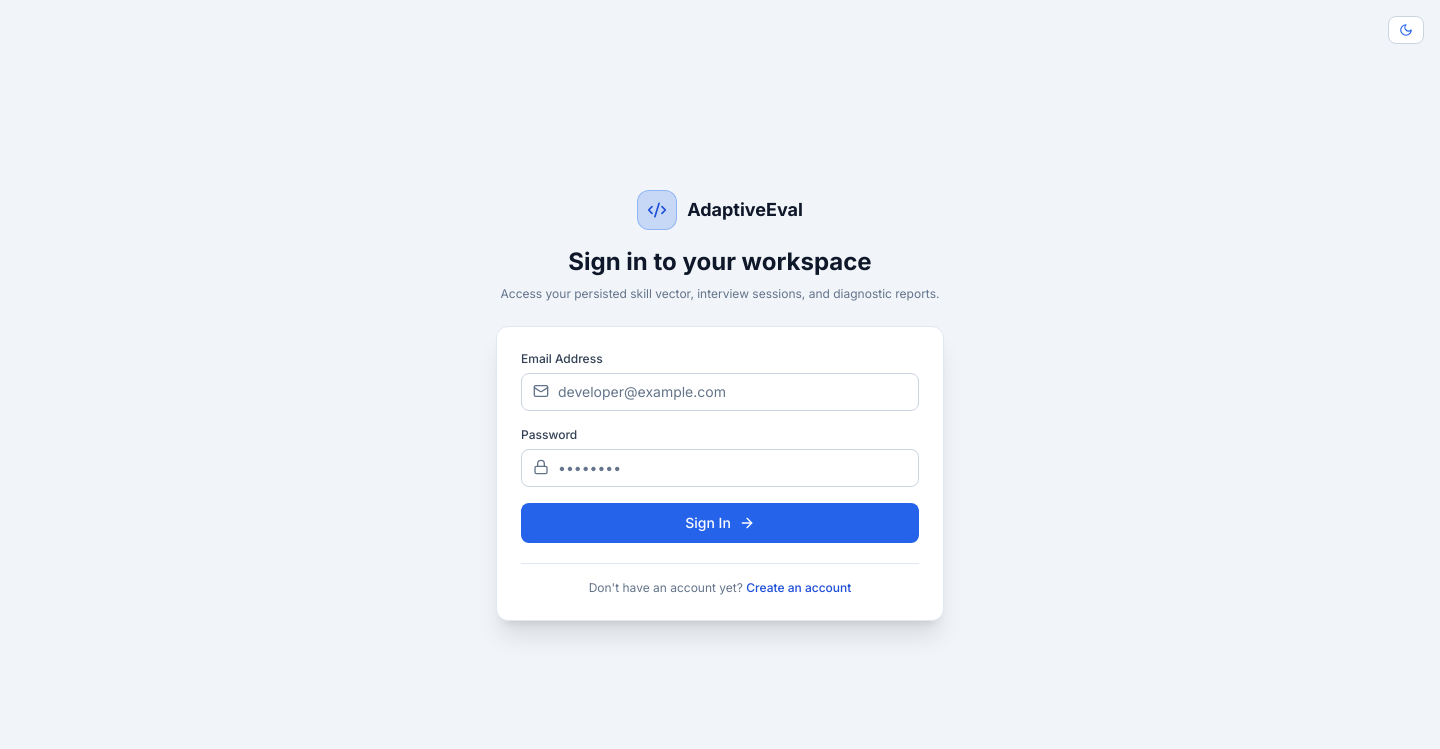
Test: Adaptive Technical Interview Simulator — Frontend Suite › validates and submits Login form and navigates to Dashboard empty state for new user
Type "alex@example.com" into the field labelled "Email Address" at coordinates (720, 392), box left=521, top=372, right=919, bottom=410
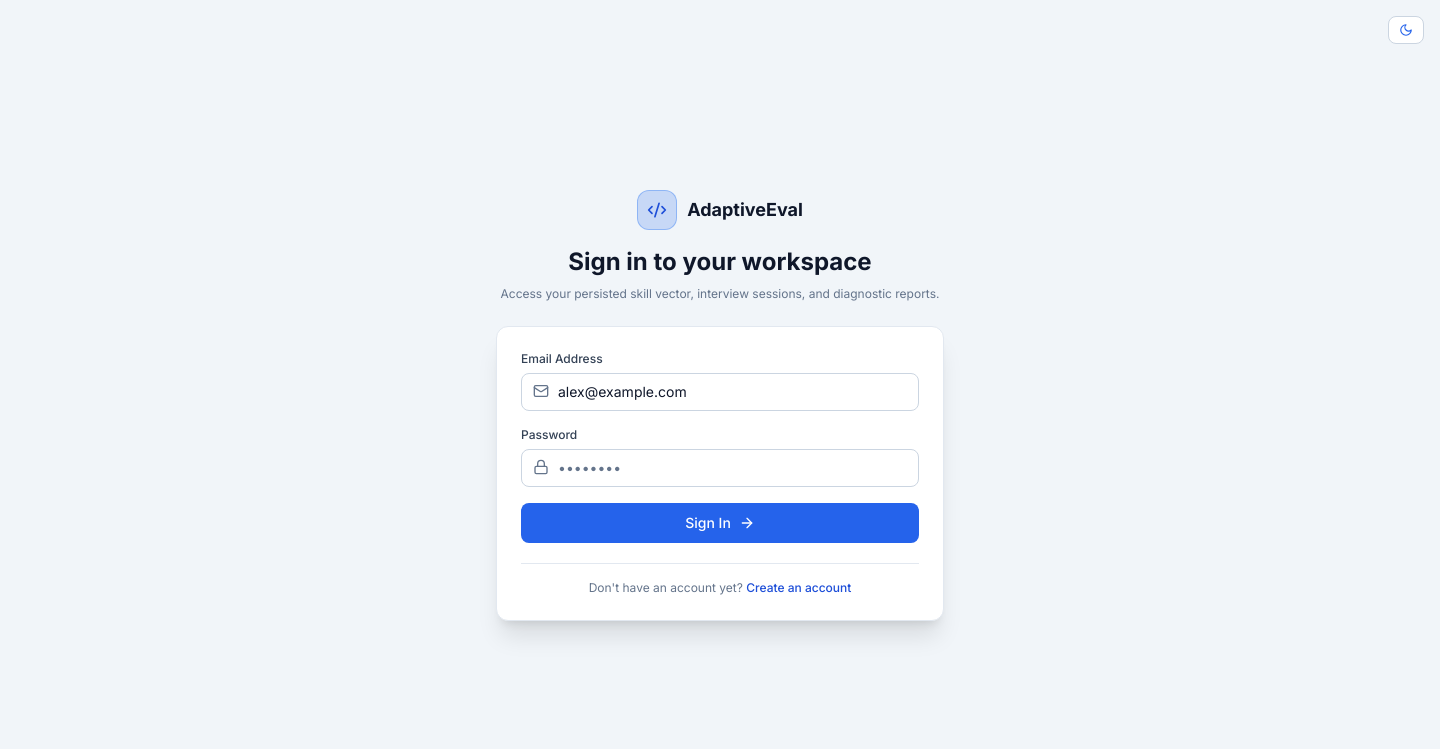
Type "StrongPass123!" into the password field labelled "Password" at coordinates (720, 468), box left=521, top=448, right=919, bottom=486
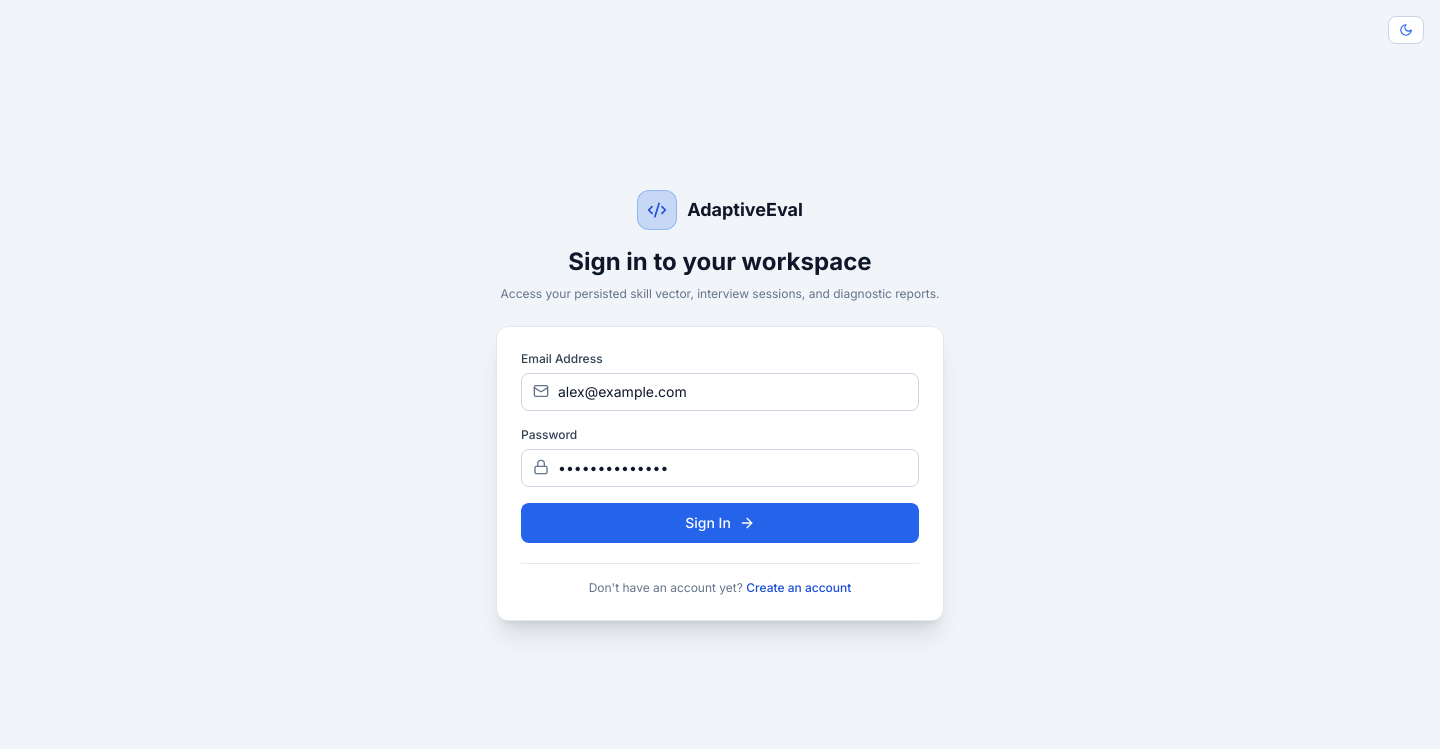
Click the button "Sign In" at coordinates (720, 522), box left=521, top=502, right=919, bottom=542
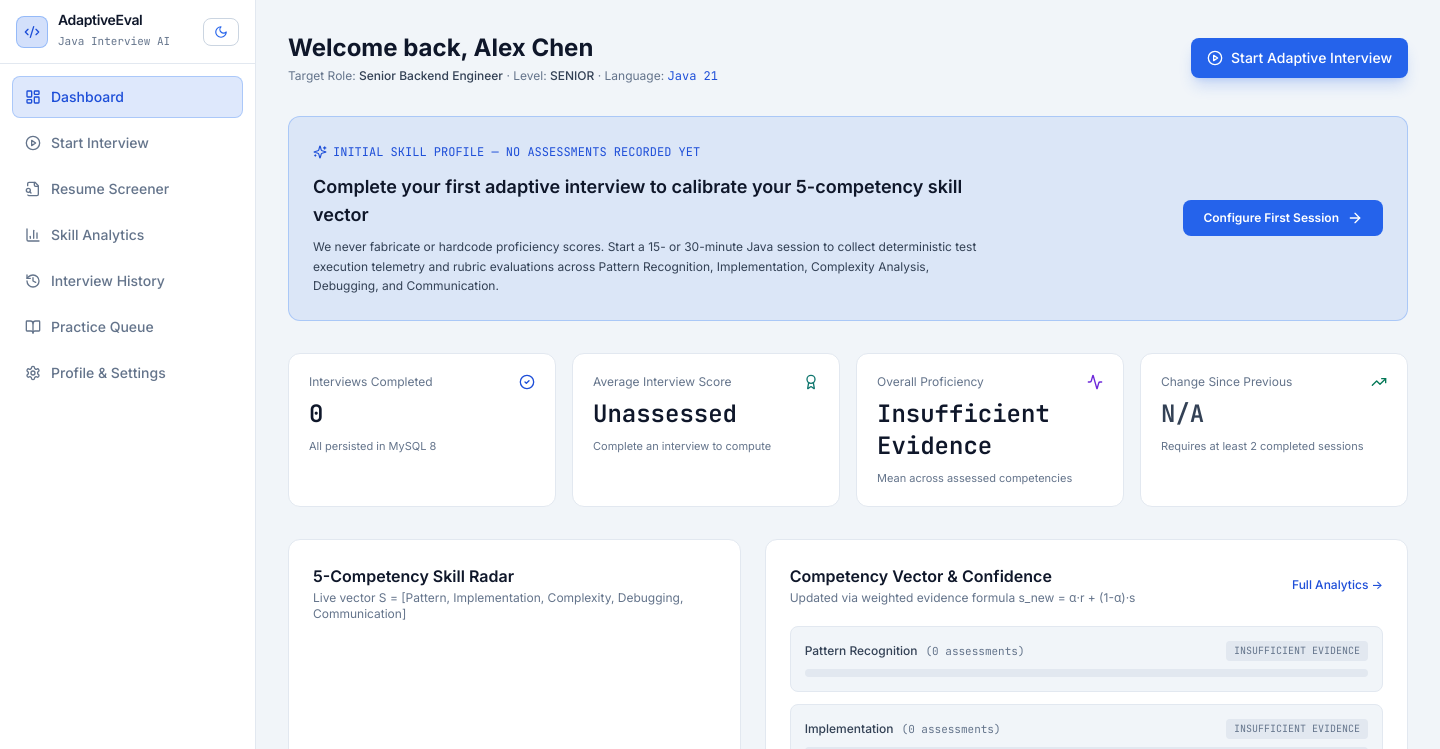
Check: the heading "Complete your first adaptive interview to calibrate your 5-competency skill vector" is shown, box left=313, top=176, right=962, bottom=225
